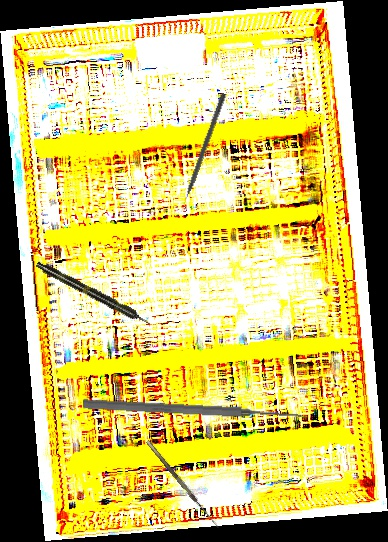Handpiece: (34, 259, 153, 329)
Hook Surgical: (145, 436, 225, 530)
Pusher: (177, 92, 227, 213), (82, 397, 304, 423)
